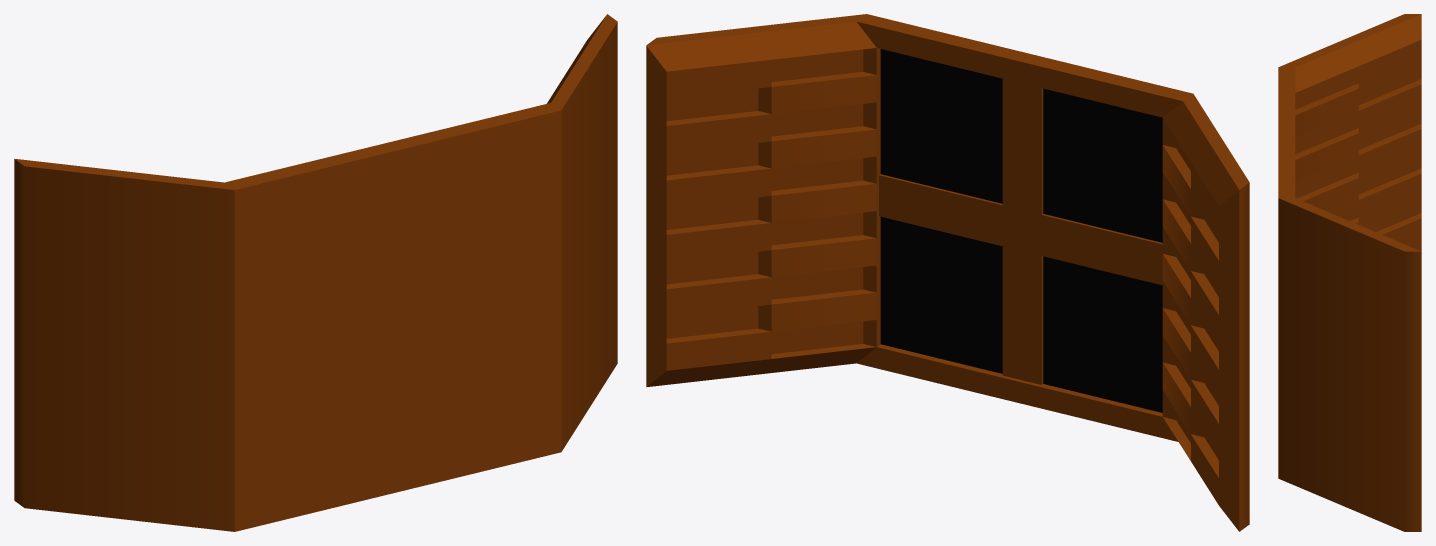
File: house_template_7.fbx
3 views of the same model, side by side, from view 1: azimuth 30°, elevation 25°; view 2: azimuth 150°, elevation 25°; view 3: azimuth 270°, elevation 25° (orthographic). The views are drawn at different scales.
Parts seen in each view (by area): view 1: house template_7; view 2: house template_7; view 3: house template_7.
Boxes of the visible parts, x1=… form: house template_7: x1=14, y1=14, x2=617, y2=531; house template_7: x1=646, y1=14, x2=1249, y2=531; house template_7: x1=1278, y1=14, x2=1421, y2=531.
Size of the model in its own units: 195 by 107 by 49.77.
